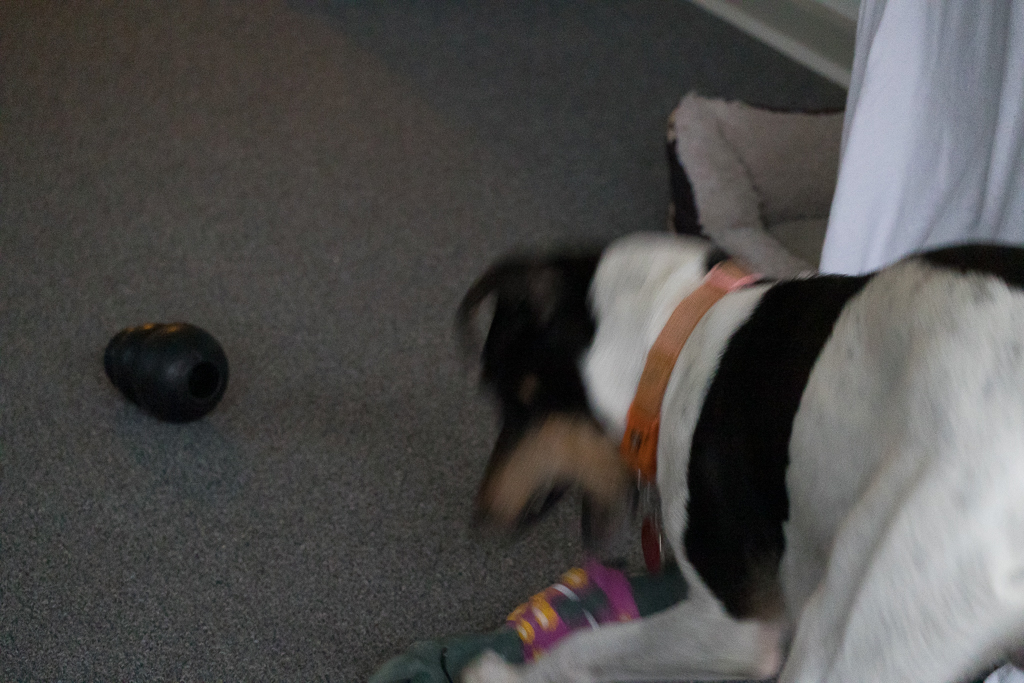Dog: (419, 209, 1024, 683)
Humanoid: (345, 534, 679, 683)
